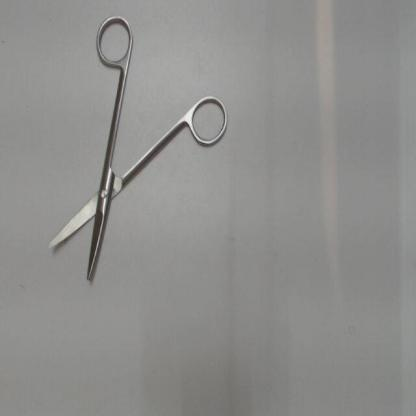Curved Mayo Scissors: (45, 8, 233, 290)
